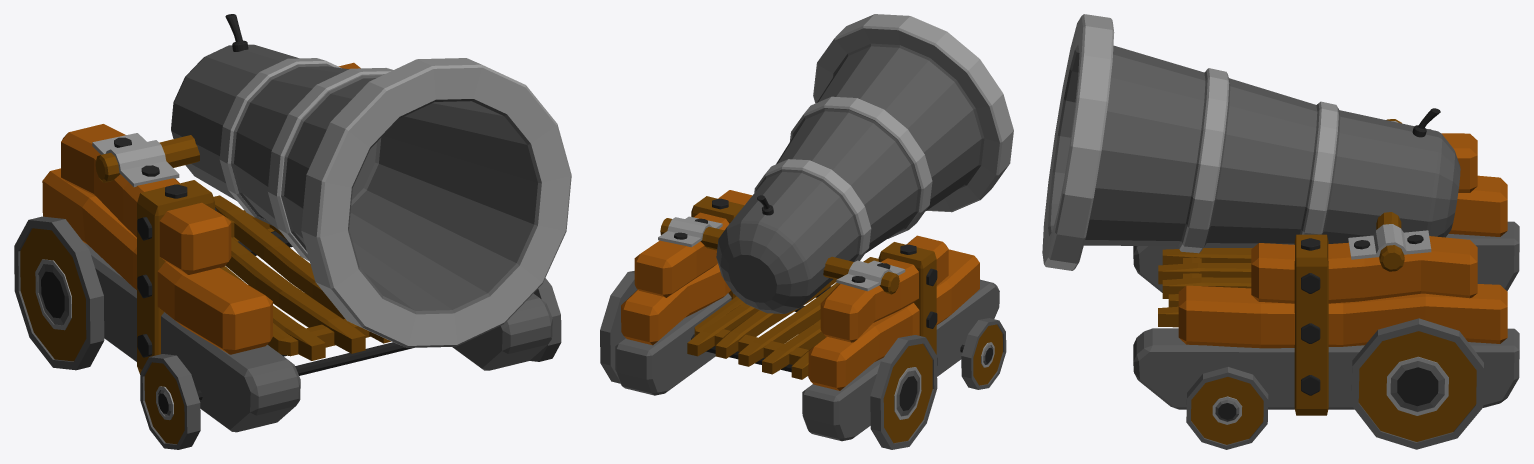
File: Low_Poly_Cannon_-_Finish_.fbx
3 views of the same model, side by side, from view 1: azimuth 30°, elevation 25°; view 2: azimuth 150°, elevation 25°; view 3: azimuth 270°, elevation 25° (orthographic). The views are drawn at different scales.
Visible parts, largest first — view 1: Tabung Meriam, Penyangga Tabung Meriam Kiri; view 2: Penyangga Tabung Meriam Kiri, Tabung Meriam; view 3: Penyangga Tabung Meriam Kiri, Tabung Meriam.
Boxes of the visible parts, x1,y1,x2,y2 form: Tabung Meriam: [171, 14, 571, 347]; Penyangga Tabung Meriam Kiri: [14, 62, 561, 449]; Penyangga Tabung Meriam Kiri: [600, 190, 1006, 449]; Tabung Meriam: [716, 14, 1013, 313]; Penyangga Tabung Meriam Kiri: [1133, 119, 1519, 449]; Tabung Meriam: [1042, 14, 1460, 270].
Bounding box in the file's own units: 1508 × 1510 × 1895.
